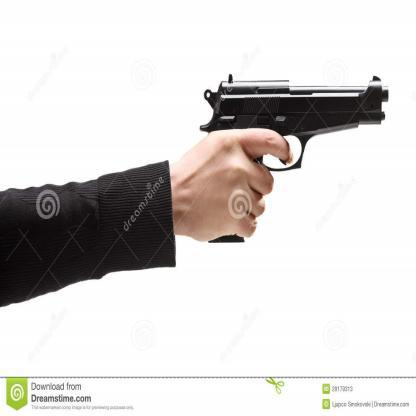gun: (184, 55, 393, 247)
